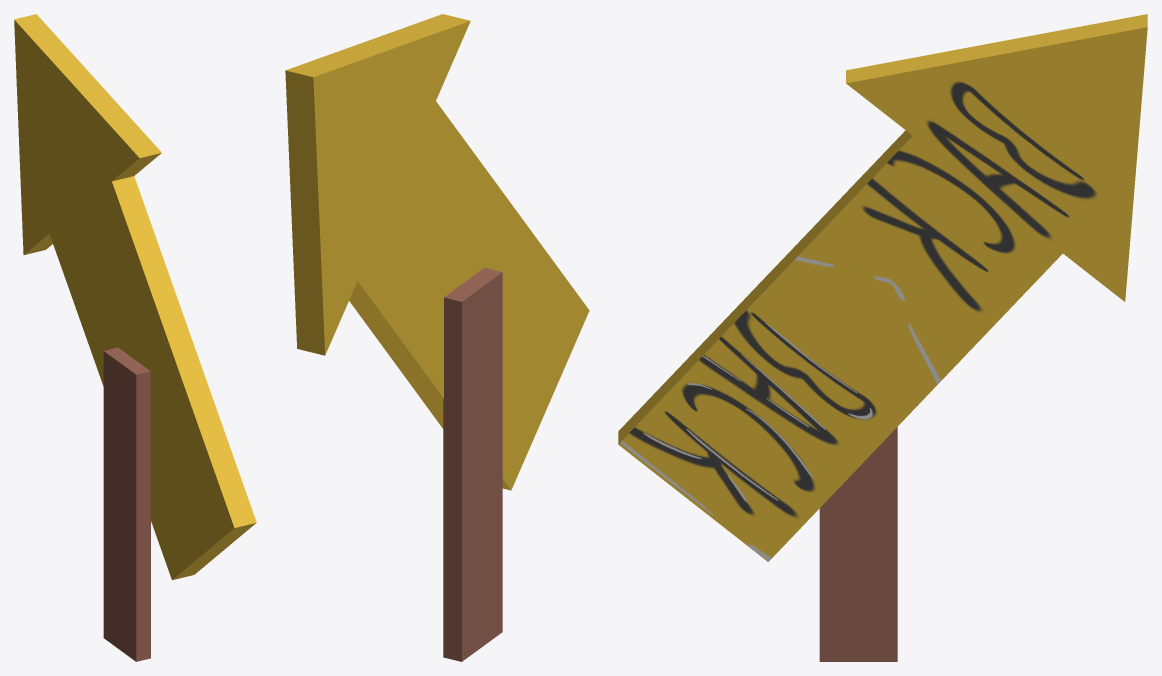
File: botãoBack.fbx
3 renders of one model, left to right at view 1: azimuth 30°, elevation 25°; view 2: azimuth 150°, elevation 25°; view 3: azimuth 270°, elevation 25°, orthographic. The views are drawn at different scales.
Parts seen in each view (by area): view 1: Seta, Suporte; view 2: Seta, Suporte; view 3: Seta, Suporte.
Part boxes in pixels (<box>): Seta: <box>14,14,256,580</box>; Suporte: <box>103,347,150,661</box>; Seta: <box>285,14,589,490</box>; Suporte: <box>443,267,502,661</box>; Seta: <box>618,14,1147,561</box>; Suporte: <box>819,427,897,661</box>.
Size of the model in its own units: 7.61 by 107 by 79.06.
